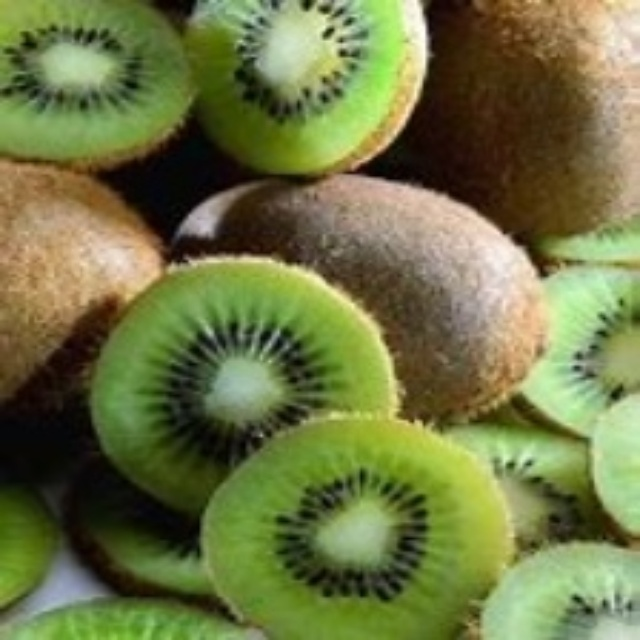kiwi: (93, 269, 500, 632), (222, 160, 573, 419), (14, 5, 449, 191), (419, 0, 639, 266)
